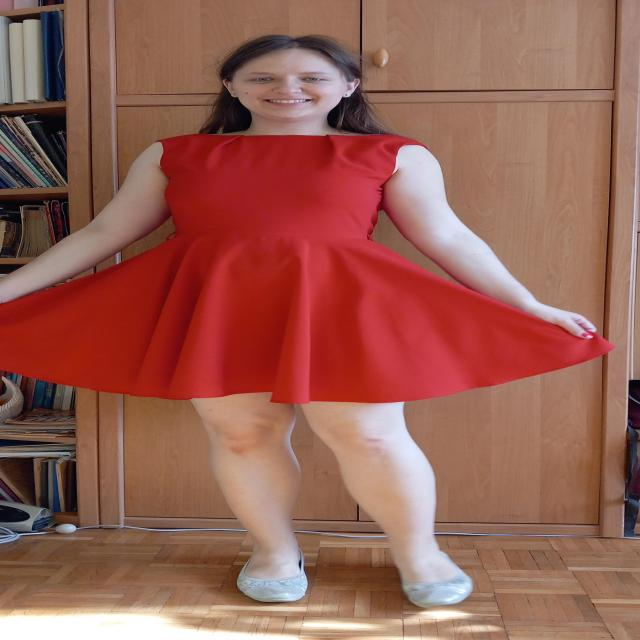dress: (0, 133, 617, 404)
